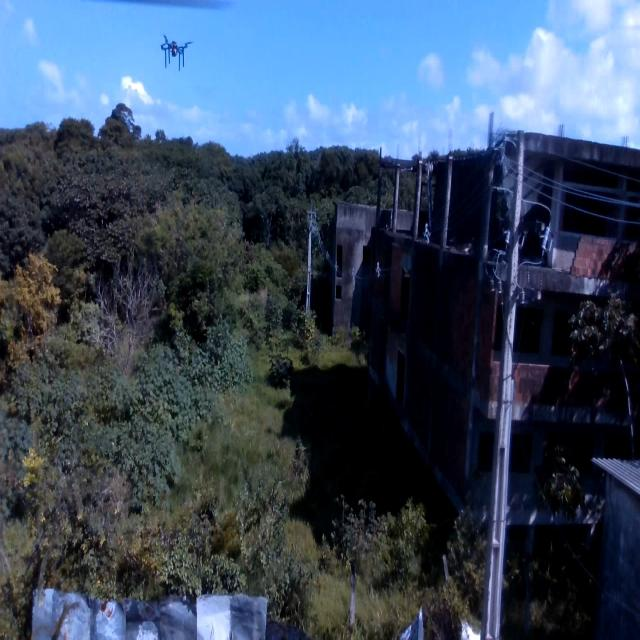-uav-: (157, 22, 199, 88)
